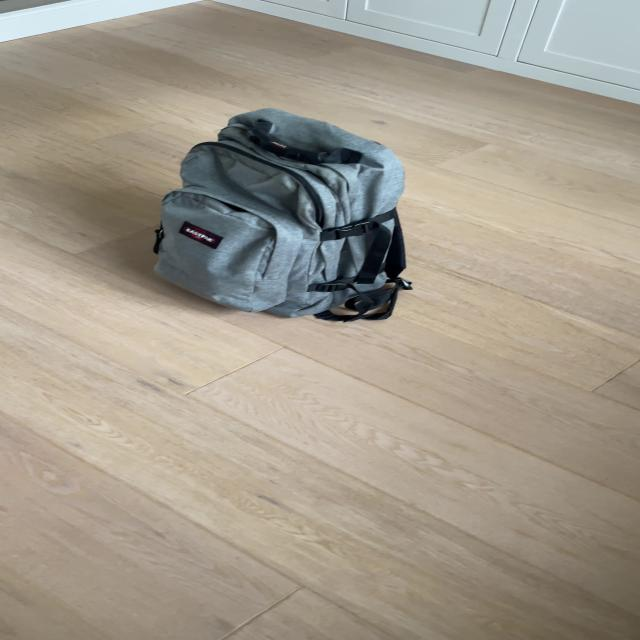backpack: (139, 98, 420, 326)
